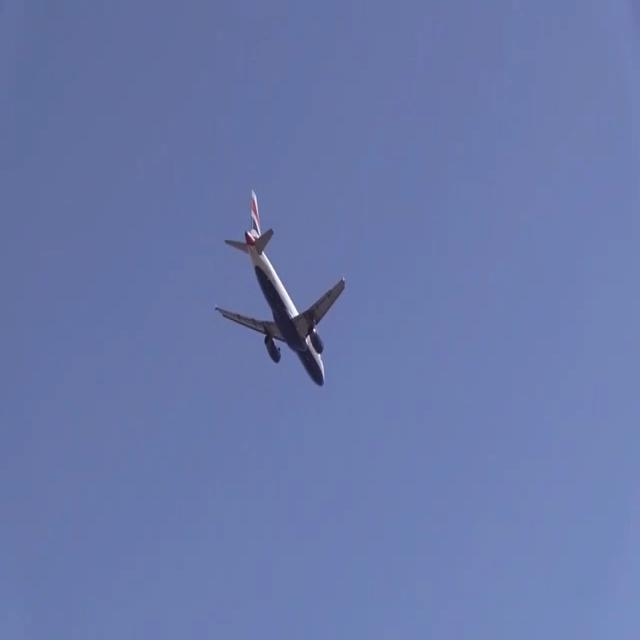AirPlane: (196, 176, 352, 396)
